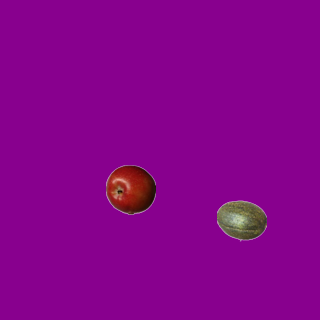Apple Braeburn: (105, 164, 155, 214)
Melon Piel de Sapo: (216, 195, 266, 245)
